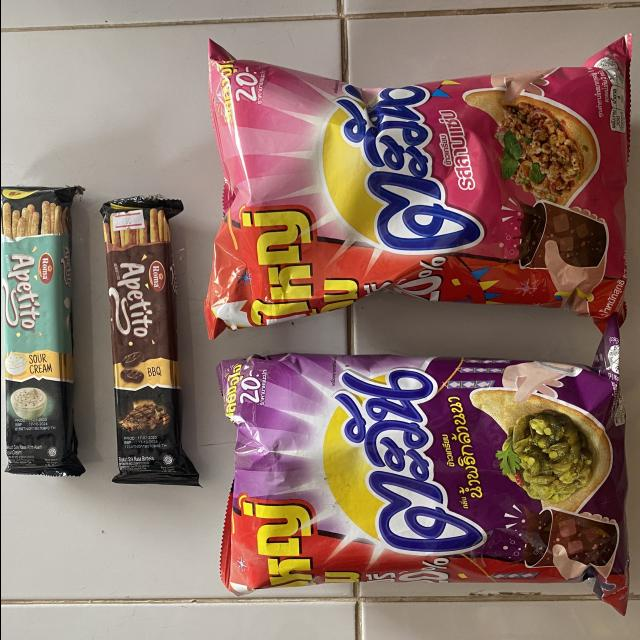plastik: (203, 37, 630, 338), (215, 320, 628, 614), (99, 197, 197, 486), (0, 187, 83, 476)
